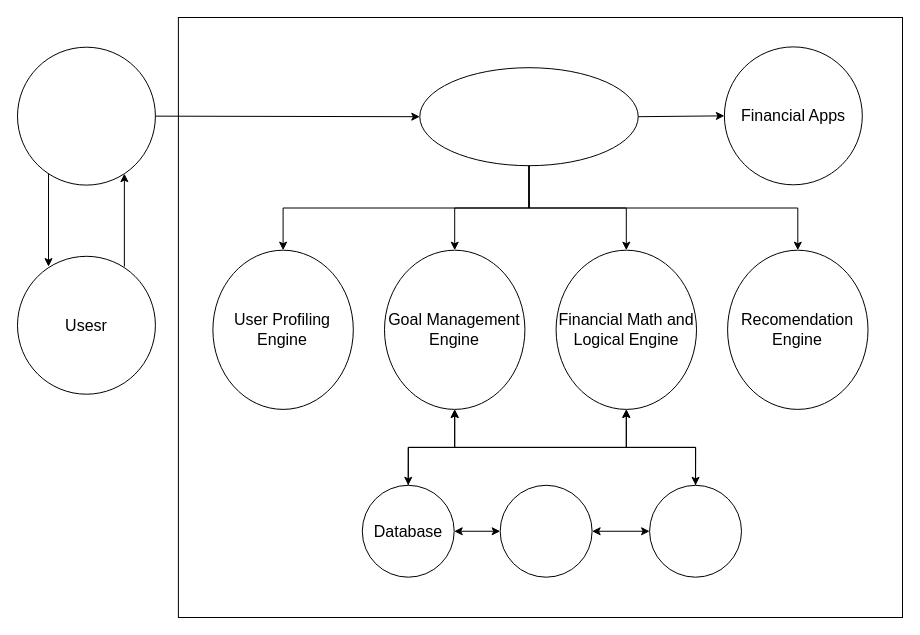
Some shapes in this 920 by 635 pixel diagram are drawn without their labels. The centre of each missing label's shape, as x and y in pixels:
"Application Layer (Backend)" goes at point 528,116.
"Data Layer" goes at point 545,530.
"External Data" goes at point 695,530.
"Frontend" goes at point 85,115.
